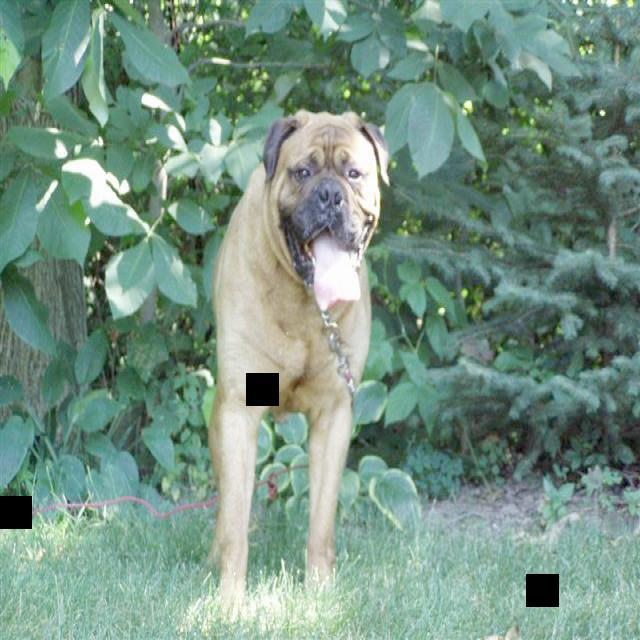adult_dog: (211, 109, 392, 607)
